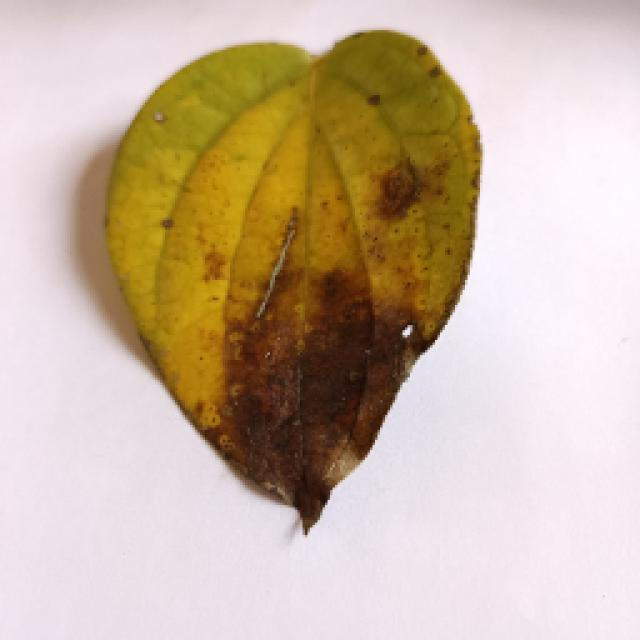slow-decline: (90, 27, 488, 535)
